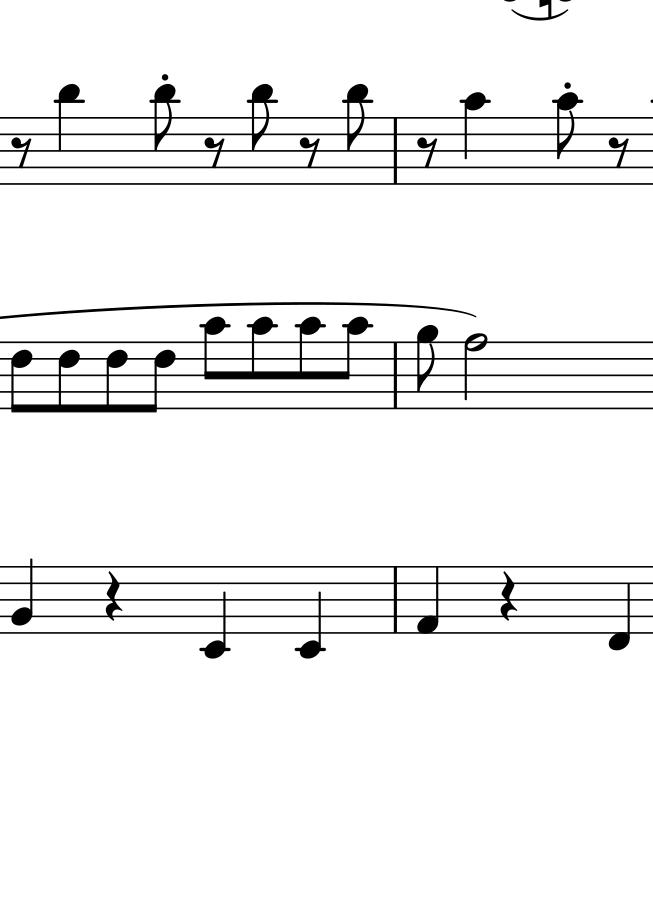2_8: (462, 330, 488, 410)
4_-1: (606, 563, 633, 651)
4_-2: (295, 562, 324, 660), (201, 564, 230, 658)
4_1: (416, 566, 440, 637)
4_10: (462, 90, 492, 186)
4_11: (56, 82, 84, 186)
4_2: (10, 558, 36, 638)
8_10: (337, 316, 371, 414), (552, 88, 584, 187), (298, 316, 328, 414), (250, 317, 281, 411), (202, 315, 230, 412)
8_11: (343, 83, 373, 187), (248, 84, 278, 187), (151, 84, 180, 185)
8_6: (142, 340, 176, 415), (56, 339, 83, 415), (104, 339, 130, 416), (9, 339, 35, 415)
8_9: (415, 323, 440, 412)
Rests4: (498, 571, 519, 624), (104, 568, 123, 623)
Rests8: (604, 134, 634, 167), (415, 135, 441, 172), (9, 135, 35, 167), (203, 135, 228, 167), (298, 135, 321, 166)
Single_barline: (386, 567, 404, 631), (387, 118, 403, 184), (388, 342, 403, 410)
